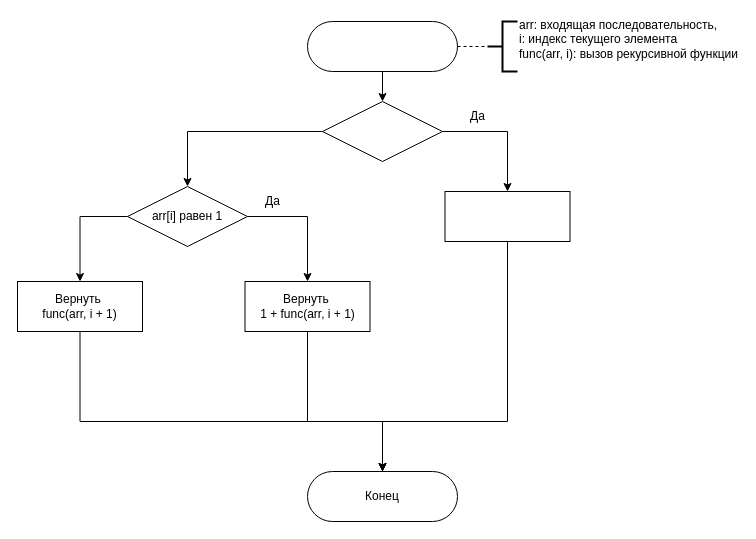
Some shapes in this 756 by 539 pixel diagram are drawn without their labels. Here are the shapes that lost their labels. From the top down, the centre of each, then its label:
At (382,46): "Начало".
At (382,131): "arr[i] равен 2".
At (507,216): "Вернуть 0".
